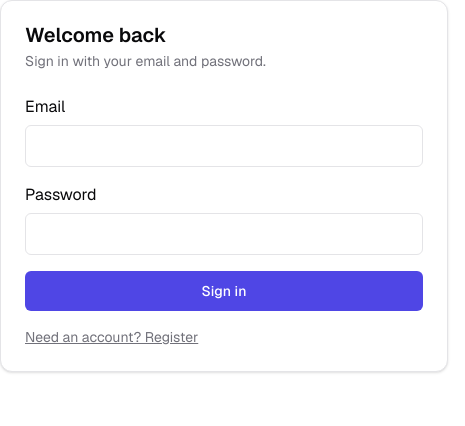
Test case: shows the ONE generic message on credential failure
The width and height of the screenshot is (465, 426).
Step 1. Type "ada@test.local" into the field labelled "Email" → (224, 146), box [25, 125, 423, 167]
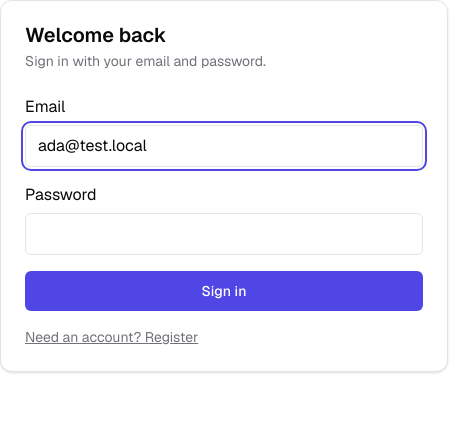
Step 2. Type "wrong-password" into the password field labelled "Password" → (224, 234), box [25, 213, 423, 255]
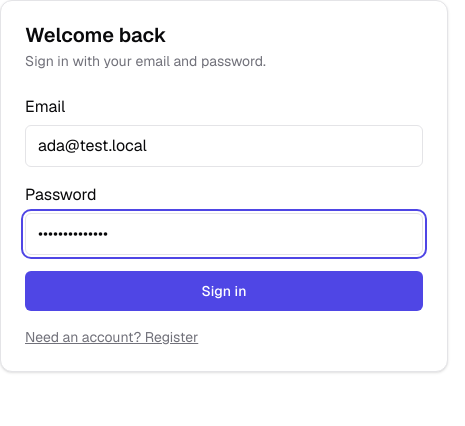
Step 3. Click the button "Sign in" → (224, 291), box [25, 271, 423, 311]
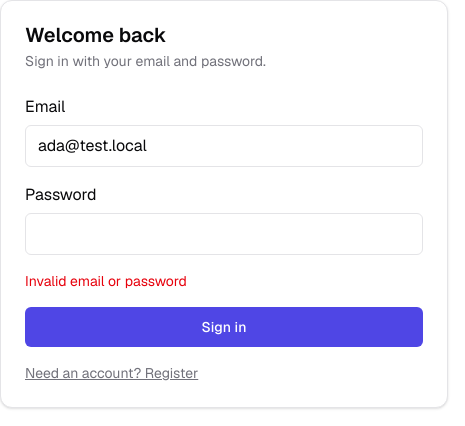
Expected: the text "Invalid email or password" is shown, [25, 272, 187, 290]
